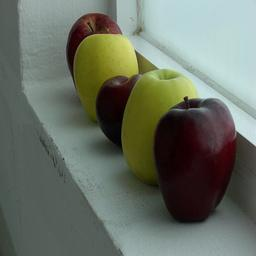apple: (152, 97, 237, 223), (67, 13, 122, 88), (97, 75, 140, 147)
